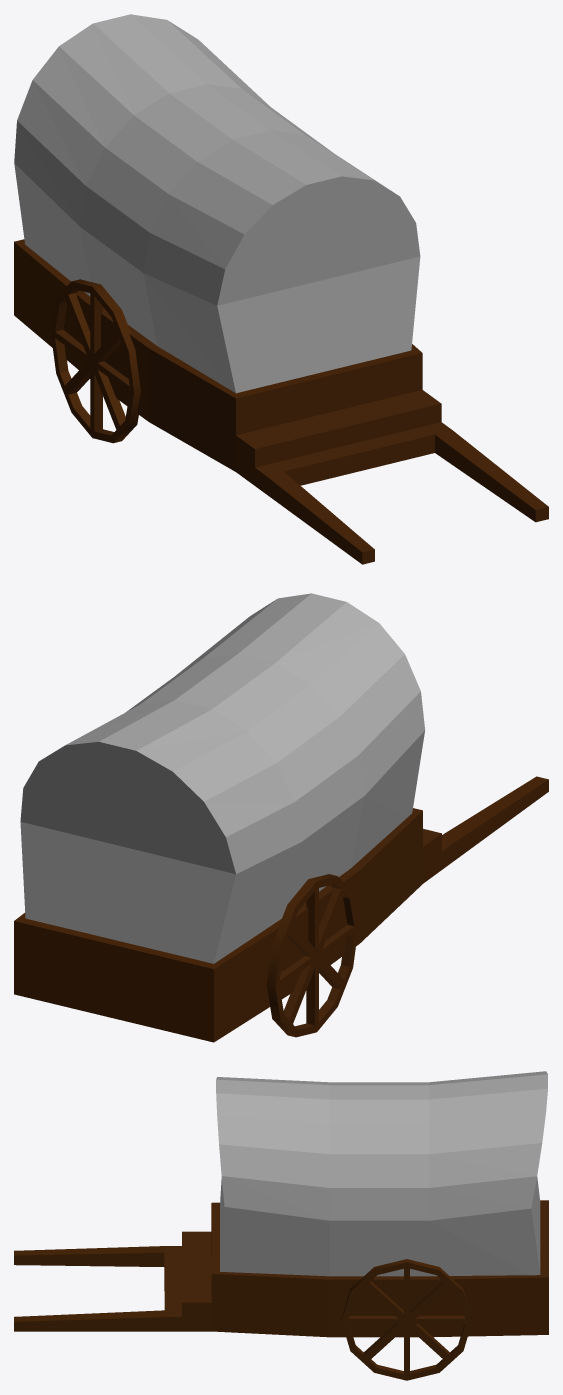
The model's file is Cart.FBX.
The picture shows the model from 3 angles, top to bottom: view 1: azimuth 30°, elevation 25°; view 2: azimuth 150°, elevation 25°; view 3: azimuth 270°, elevation 25°; orthographic projection. The views are drawn at different scales.
Parts seen in each view (by area): view 1: Cylinder001, Object001, Cylinder002; view 2: Cylinder001, Object001, Cylinder002; view 3: Cylinder001, Object001, Cylinder002.
Boxes of the visible parts, x1,y1,x2,y2 form: Cylinder001: (14, 14, 420, 393); Object001: (14, 239, 548, 564); Cylinder002: (50, 279, 140, 443); Cylinder001: (20, 593, 425, 963); Object001: (14, 776, 548, 1042); Cylinder002: (266, 874, 358, 1037); Cylinder001: (216, 1071, 547, 1276); Object001: (14, 1200, 548, 1337); Cylinder002: (341, 1259, 472, 1380).
Bounding box in the file's own units: 33.97 × 46.92 × 89.21.
